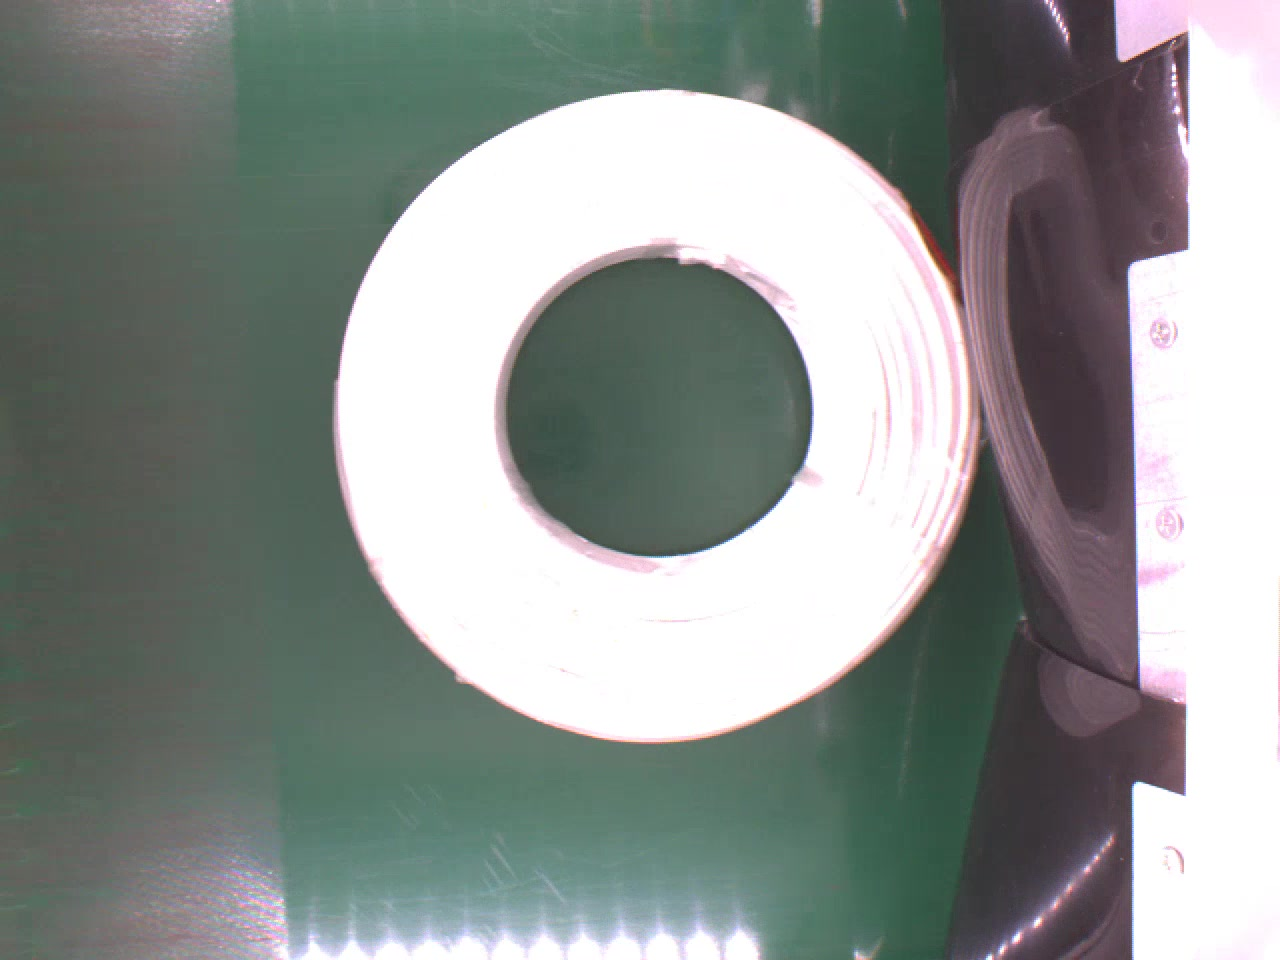white: (332, 85, 987, 750)
